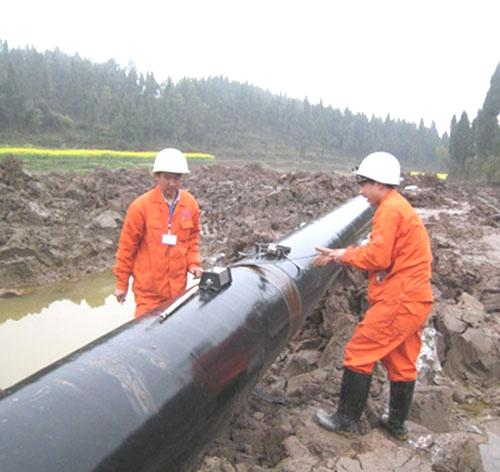helmet: (350, 151, 403, 210), (150, 147, 191, 197)
not_reflective: (112, 192, 208, 303), (343, 197, 437, 306)
